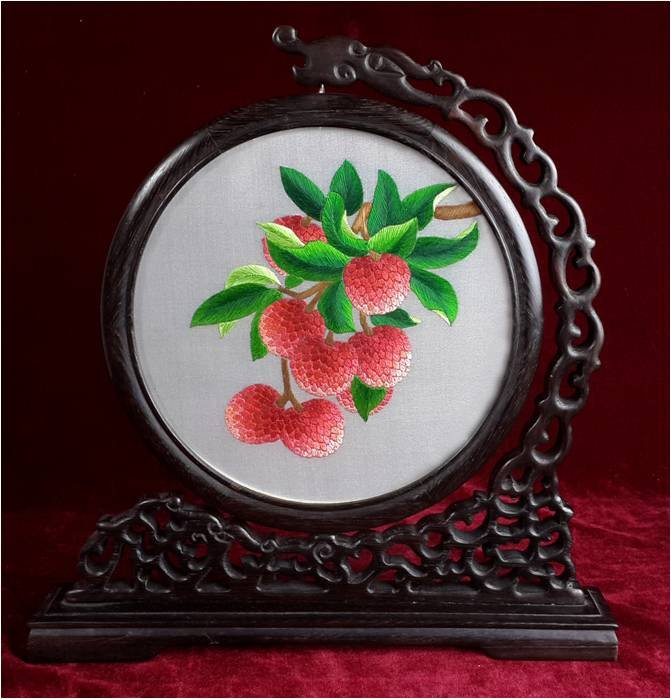lychee: (290, 334, 356, 397), (343, 252, 410, 314), (263, 215, 329, 276), (259, 300, 325, 359), (350, 326, 412, 388), (225, 383, 287, 445), (282, 400, 345, 459), (341, 378, 394, 412)
